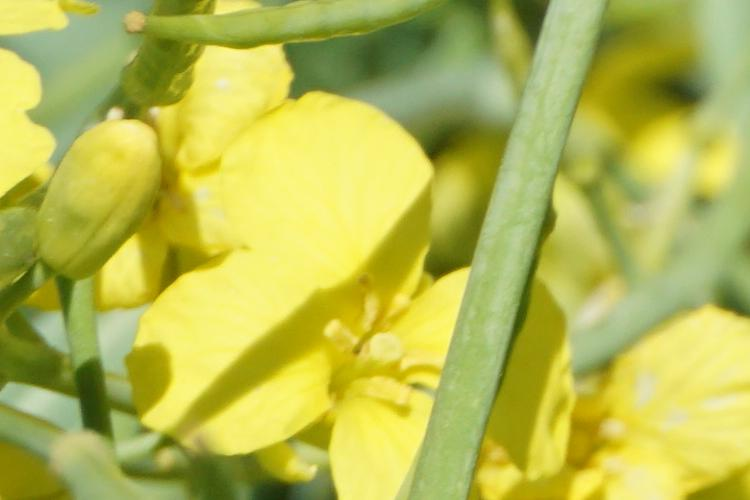bud: (36, 120, 163, 282)
pod: (122, 4, 457, 66)
yellow: (125, 96, 581, 490), (563, 288, 750, 497)
